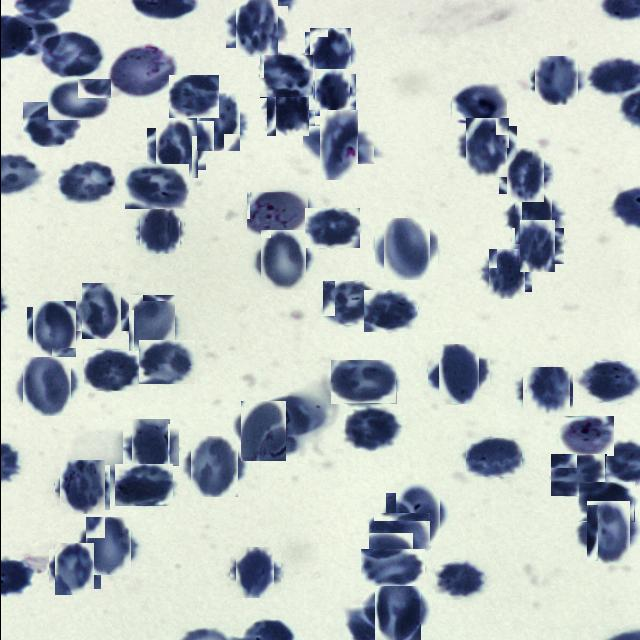red blood cell: (108, 46, 175, 96), (254, 394, 327, 438), (38, 30, 103, 78), (369, 582, 424, 638), (19, 358, 74, 413), (378, 222, 433, 276), (390, 488, 444, 542), (310, 118, 364, 172), (330, 360, 396, 404), (124, 164, 188, 209), (187, 439, 240, 493), (237, 404, 290, 458), (580, 506, 634, 559), (368, 512, 430, 558), (256, 234, 309, 287), (82, 520, 134, 572), (460, 122, 512, 174), (230, 1, 282, 53), (47, 79, 111, 121), (22, 100, 80, 146), (578, 361, 640, 403), (432, 349, 483, 400), (192, 97, 243, 148), (126, 296, 176, 348), (57, 160, 116, 204), (138, 339, 194, 384), (29, 304, 79, 354), (150, 124, 200, 174), (56, 462, 106, 512), (114, 464, 172, 506), (322, 281, 376, 326), (360, 549, 424, 586), (550, 454, 605, 497), (259, 55, 313, 98), (77, 286, 125, 334), (263, 86, 311, 134), (343, 408, 399, 449), (363, 290, 417, 332), (126, 424, 174, 471), (83, 350, 138, 391), (578, 482, 634, 522), (451, 83, 506, 123), (304, 208, 359, 248), (465, 438, 521, 477), (168, 75, 218, 118), (532, 58, 578, 104), (51, 546, 97, 592), (510, 194, 556, 240), (502, 152, 548, 198), (524, 368, 570, 414), (306, 30, 352, 76), (232, 550, 277, 595), (434, 560, 484, 600), (483, 252, 528, 296), (137, 209, 181, 253), (515, 224, 559, 268), (310, 71, 352, 113)
ring: (246, 192, 308, 236), (556, 416, 612, 456)
